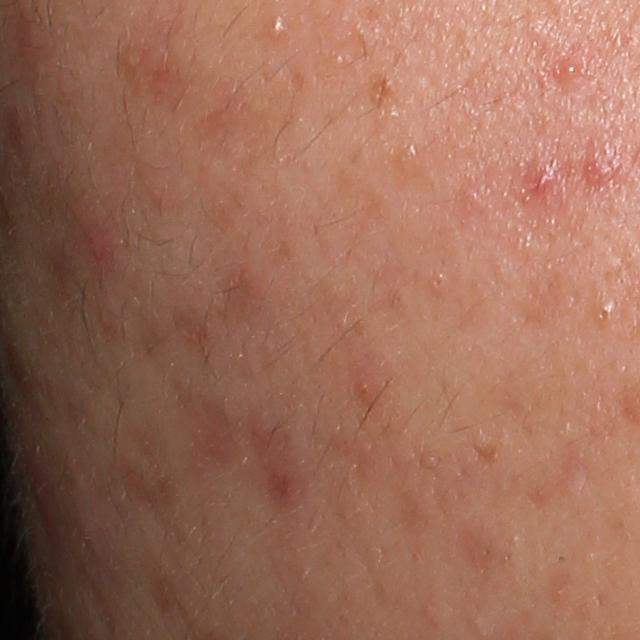atrophic_scar: (179, 381, 248, 486), (249, 408, 315, 517), (203, 265, 272, 326), (473, 441, 500, 469)
papule: (528, 162, 559, 197), (555, 53, 587, 85), (586, 154, 614, 186)
